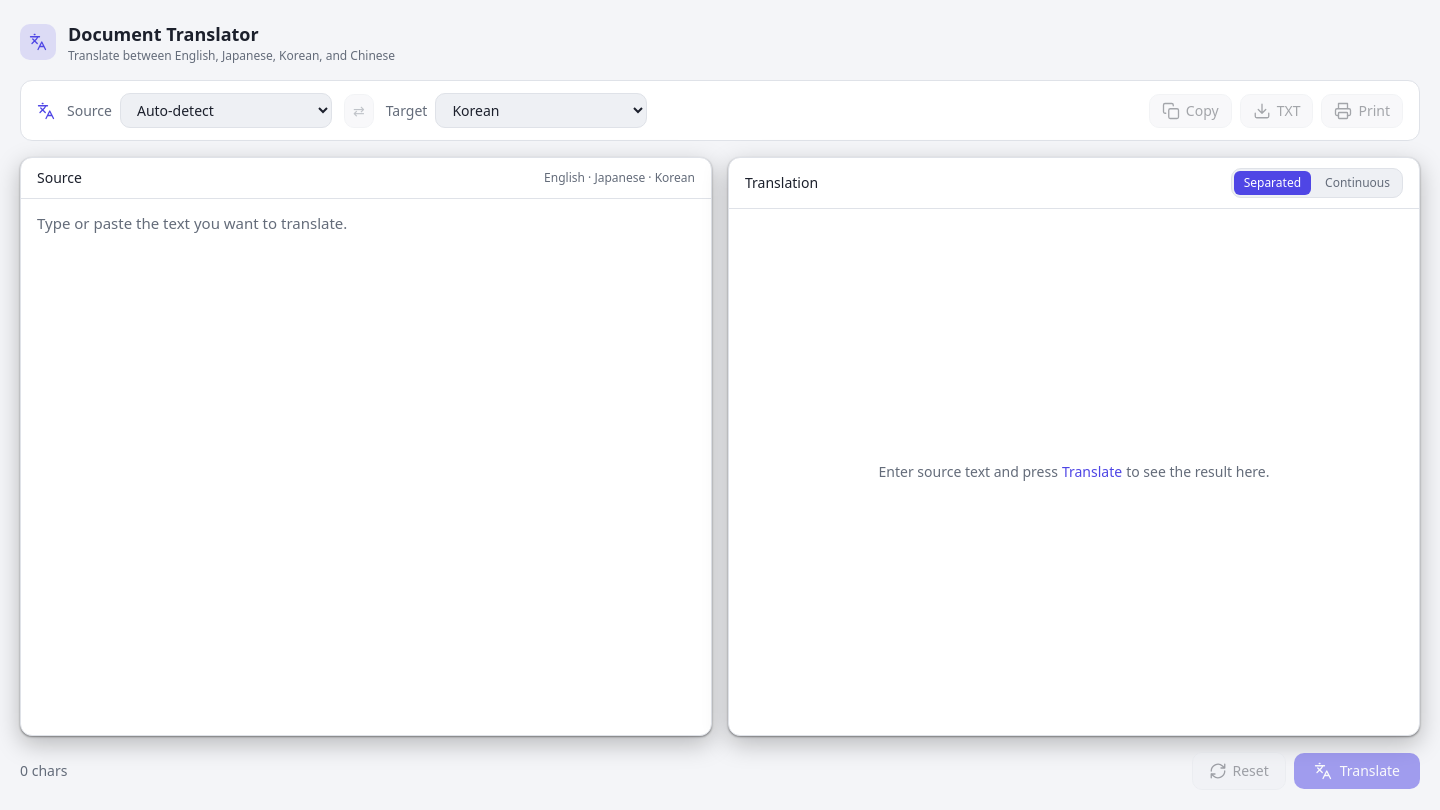
Test: TextTranslationPage › translates text and shows the editable result
Type "Hello" into the text box with placeholder "Type or paste the text you want to translate.".
click(366, 467); type("Hello")  # box [21,199,711,735]
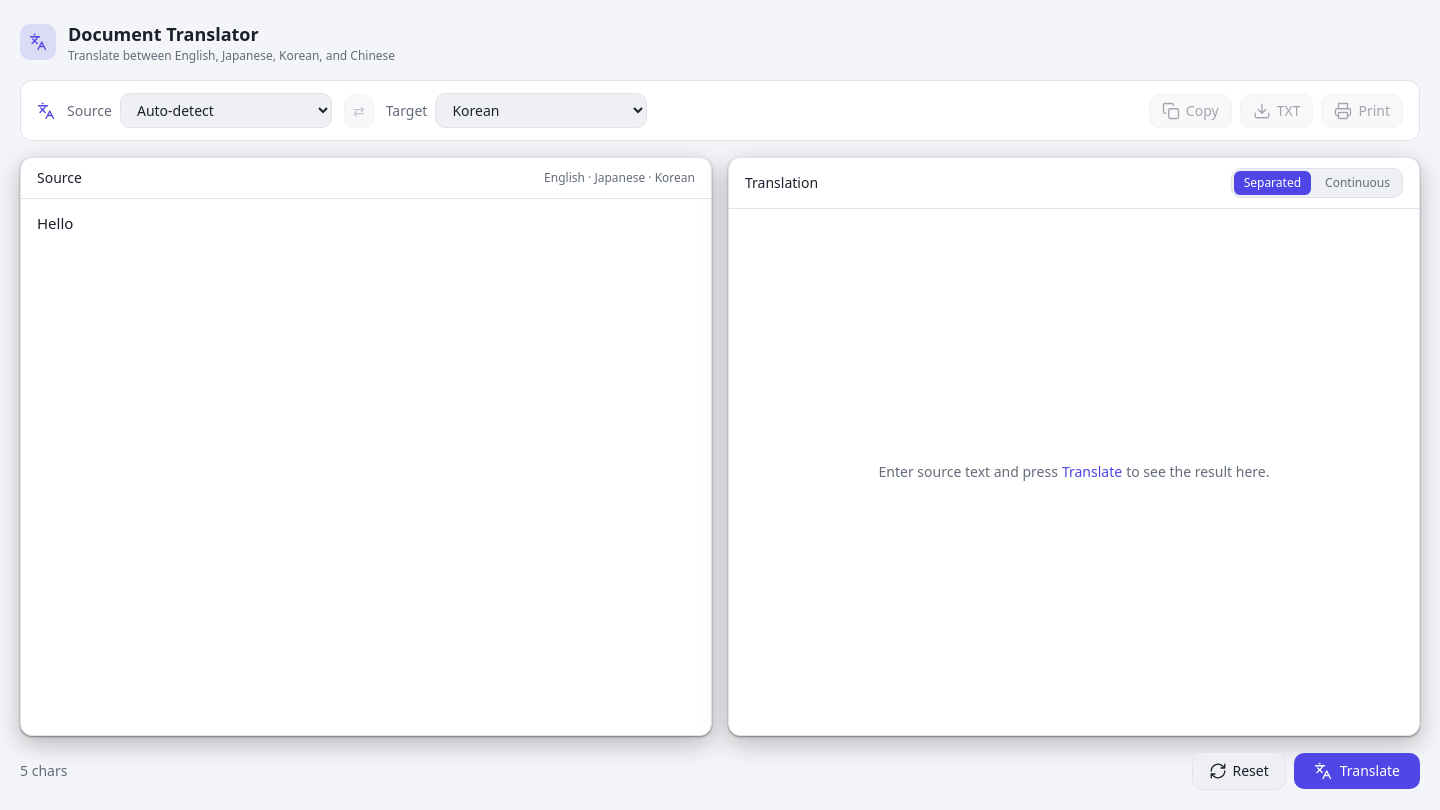
Click the button "Translate".
click(1357, 771)  # box [1294,753,1420,789]
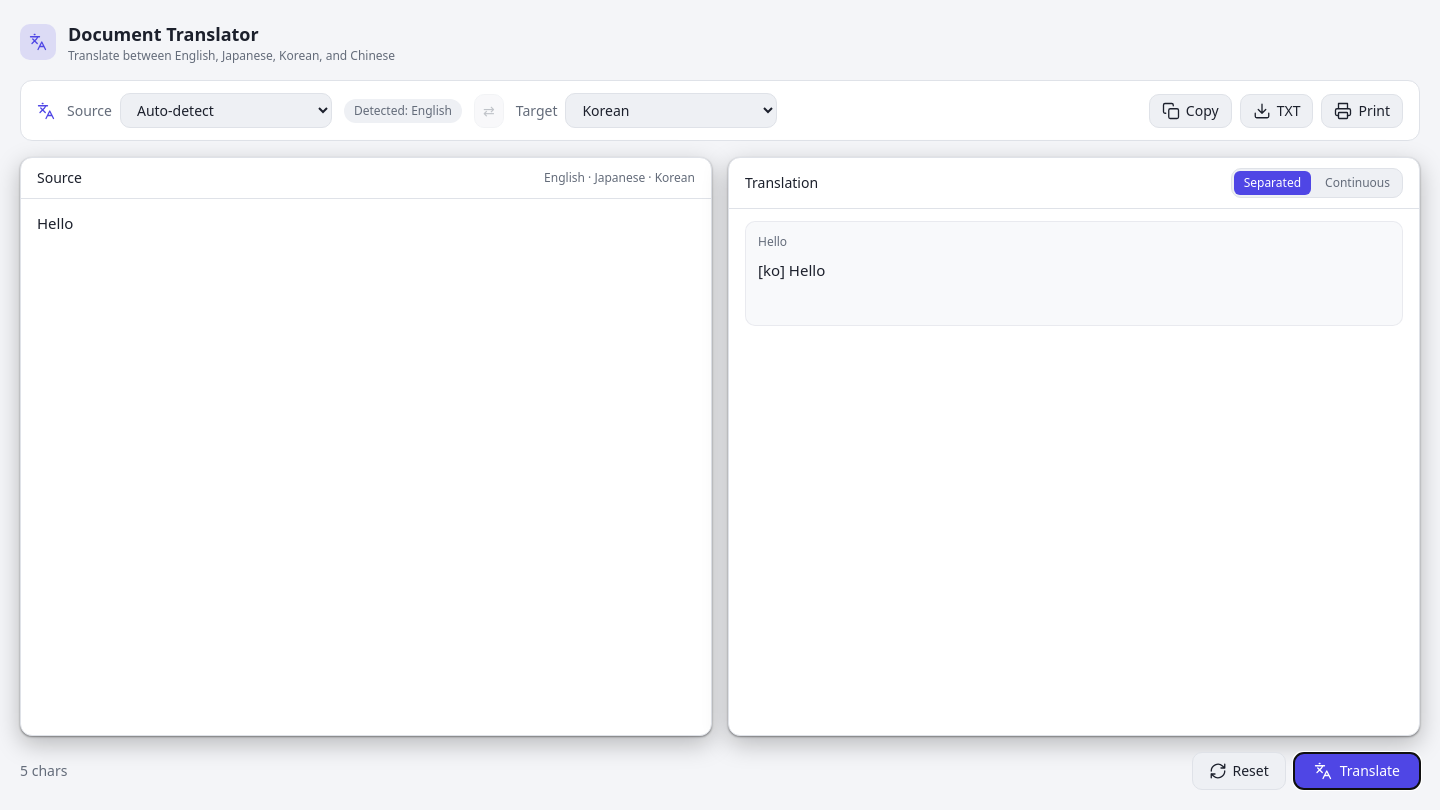
Result: the text box named "Translated paragraph 1" holds "[ko] Hello" at [758,258,1390,307]
